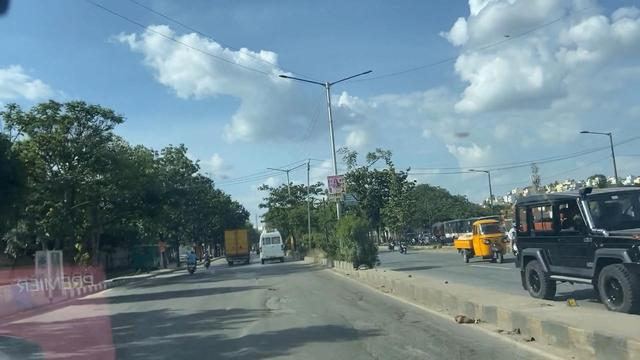HMV: (255, 223, 289, 265), (220, 226, 252, 265)
LMV: (186, 247, 202, 277), (196, 243, 213, 270)
RoadDamages: (329, 298, 418, 357), (171, 320, 270, 360), (254, 286, 291, 322)
